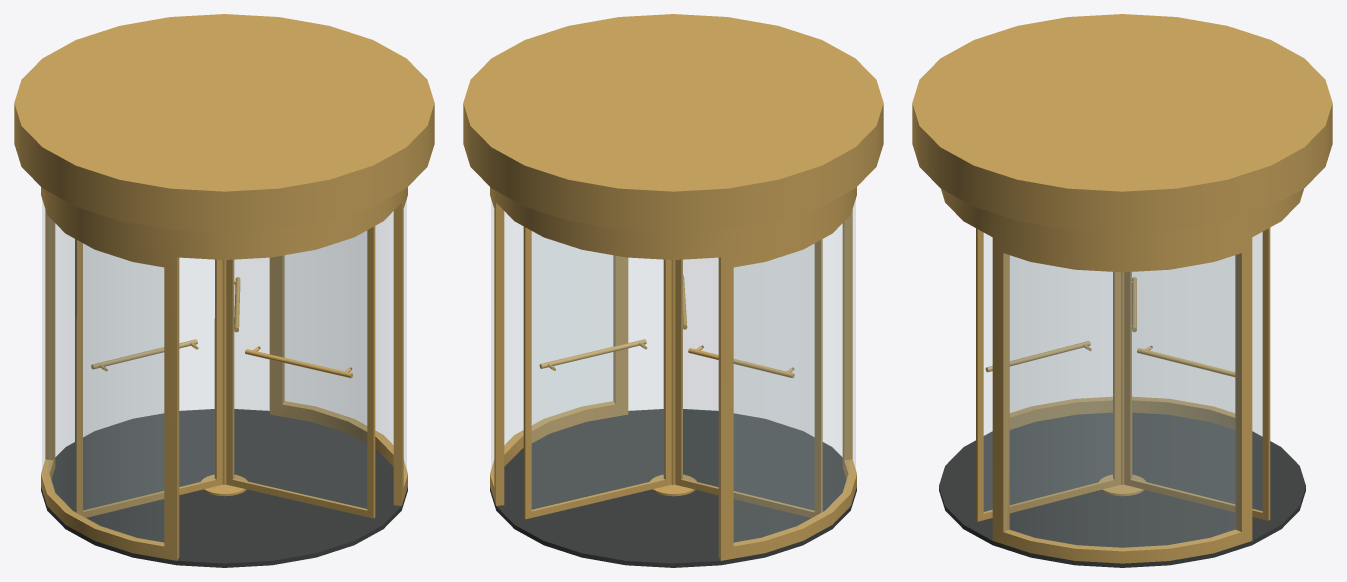
File: revolving-door.glb
3 renders of one model, left to right at view 1: azimuth 30°, elevation 25°; view 2: azimuth 150°, elevation 25°; view 3: azimuth 270°, elevation 25°, orthographic.
Parts seen in each view (by area): view 1: door-frame, door-rotor, door-mat; view 2: door-frame, door-rotor, door-mat; view 3: door-frame, door-rotor, door-mat.
Boxes of the visible parts, left/top/right/bottom form: door-frame: left=14, top=14, right=434, bottom=560; door-rotor: left=75, top=226, right=375, bottom=518; door-mat: left=41, top=409, right=407, bottom=567; door-frame: left=463, top=14, right=883, bottom=560; door-rotor: left=523, top=226, right=822, bottom=519; door-mat: left=490, top=409, right=856, bottom=567; door-frame: left=912, top=14, right=1332, bottom=563; door-rotor: left=976, top=228, right=1270, bottom=521; door-mat: left=939, top=412, right=1305, bottom=567.
Size of the model in its own units: 1 by 1.02 by 1.
